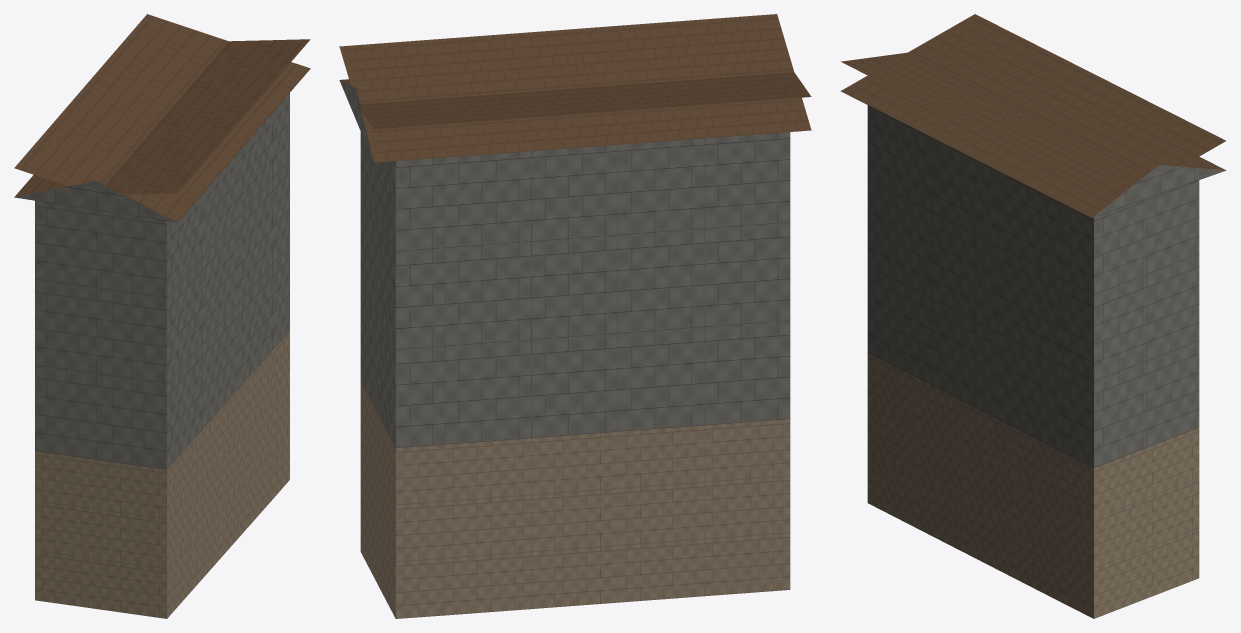
Rendered from bld_c15_26_399.gltf.
The picture shows the model from 3 angles, left to right: view 1: azimuth 30°, elevation 25°; view 2: azimuth 150°, elevation 25°; view 3: azimuth 270°, elevation 25°; orthographic projection. The views are drawn at different scales.
Parts seen in each view (by area): view 1: bld_c15_26_399; view 2: bld_c15_26_399; view 3: bld_c15_26_399.
Boxes of the visible parts, box(x1,y1,x2,y2) form: bld_c15_26_399: box(14, 14, 310, 618); bld_c15_26_399: box(339, 14, 811, 618); bld_c15_26_399: box(840, 14, 1226, 618).
Bounding box in the file's own units: 12.68 × 14.9 × 11.85.
Materials: 4 (4 with a texture image).
